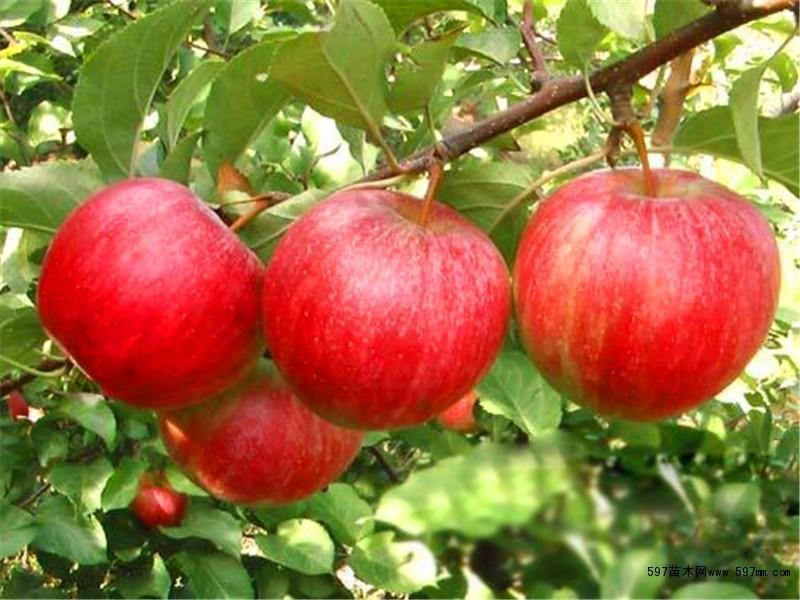apple: (507, 157, 781, 429), (262, 181, 512, 432), (38, 178, 266, 406), (159, 343, 369, 503), (127, 471, 187, 528)
